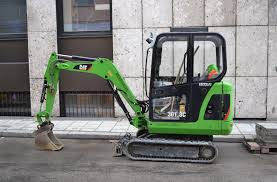excavator: (31, 28, 237, 164)
